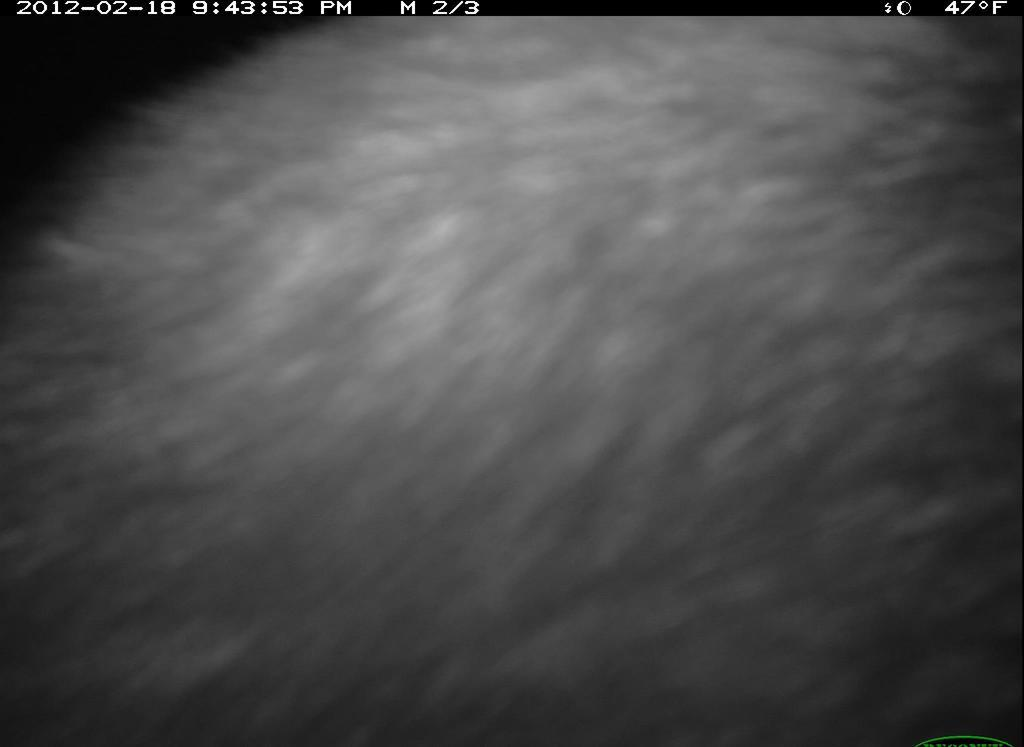raccoon: (3, 15, 1023, 747)
